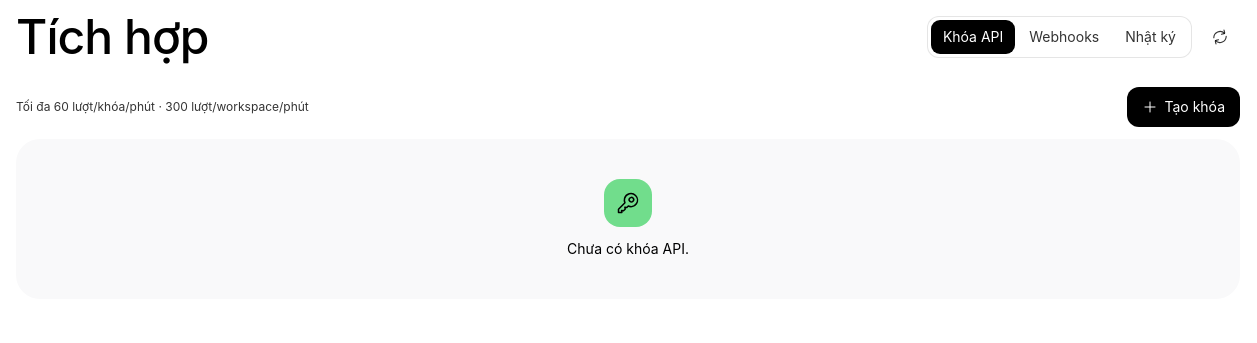
Test: does not send a test webhook on page or tab load
The width and height of the screenshot is (1257, 343).
Click the tab "Webhooks": (1064, 37) [1017,20,1111,54]
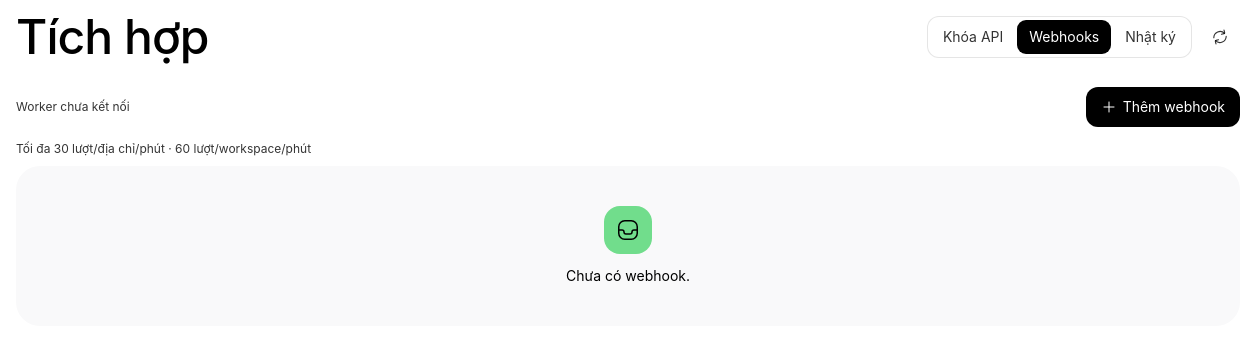
expect the text "Chưa có webhook." is shown: met, box [16,166,1240,326]
expect the text "Worker chưa kết nối" is shown: met, box [16,97,130,116]
